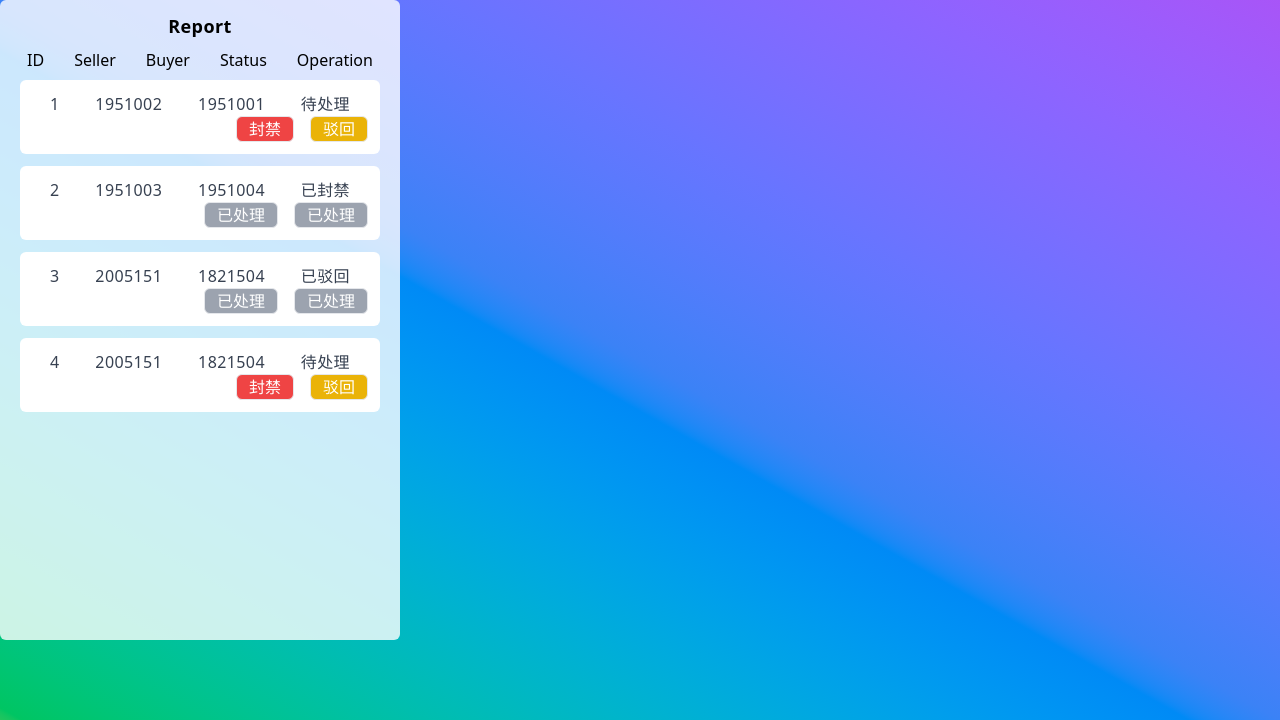
Testing ban button behavior
Check: the 2nd button with test id "reject" reads "驳回", box [310,374,368,400]
Check: the text with test id "status" next to "1951001" reads "待处理", box [301,93,350,115]
Click the button with test id "ban" below "1951002" at (265, 129), box [236,116,294,142]
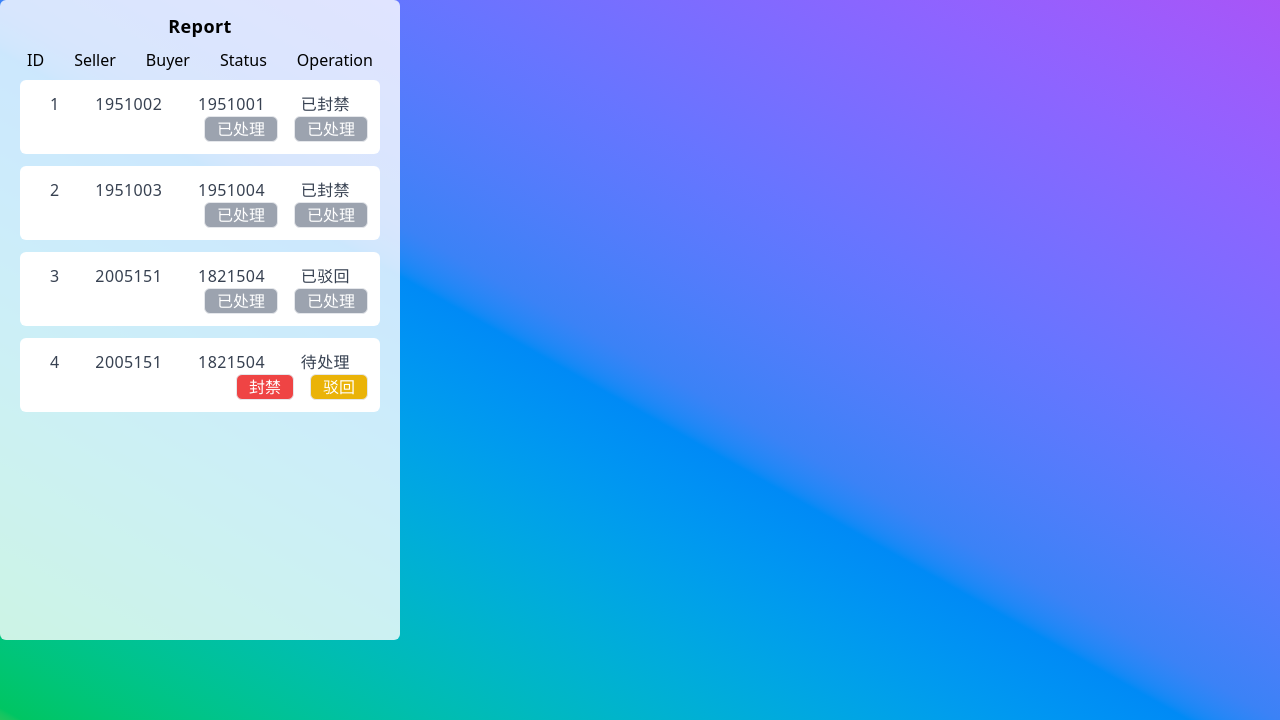
Check: the text with test id "status" next to "1951001" reads "已封禁", box [301,93,350,115]
Click the button with test id "reject" showing "驳回" at (339, 387), box [310,374,368,400]
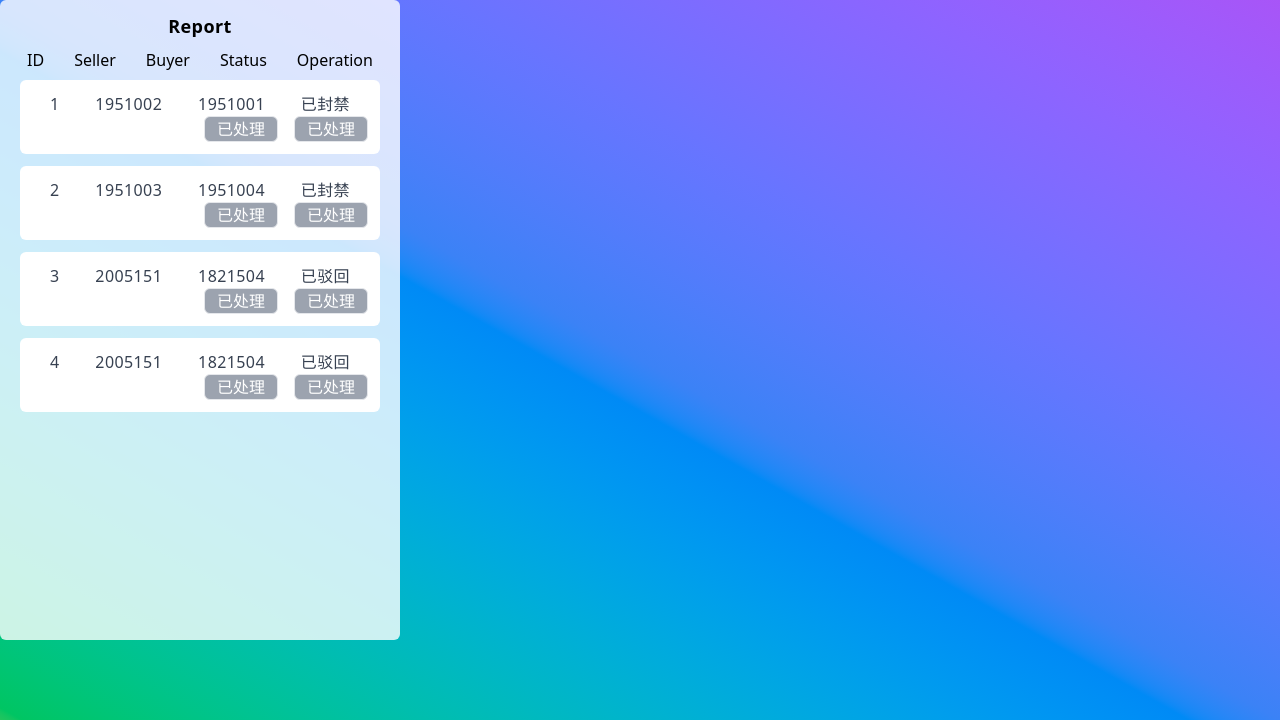
Check: the 2nd text with test id "status" reads "已驳回", box [301,351,350,373]
